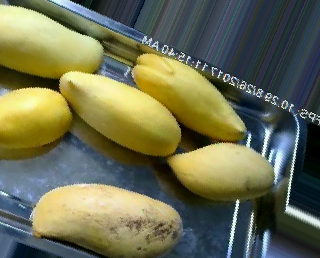Mango: (129, 44, 254, 146), (56, 68, 185, 164), (30, 180, 191, 254), (0, 3, 105, 82), (162, 140, 276, 206), (0, 78, 80, 151)
